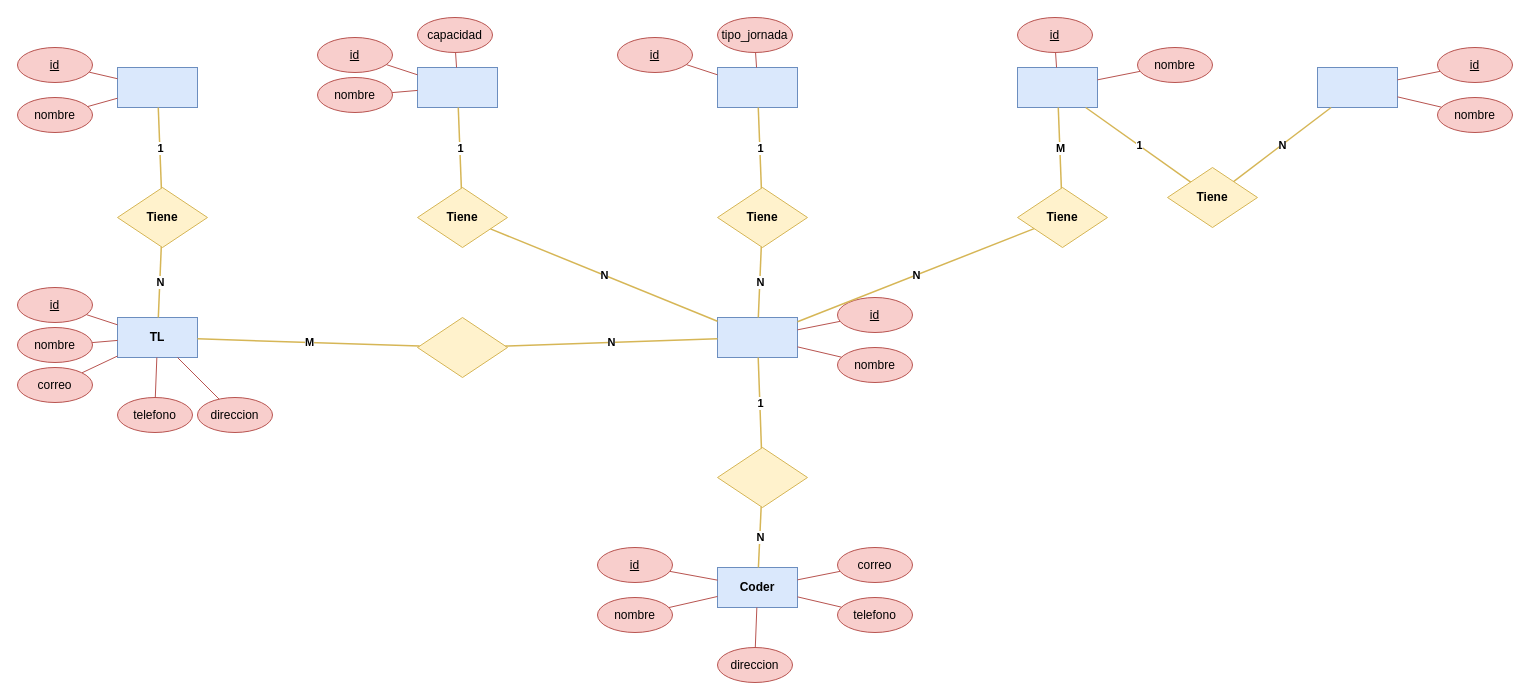
This 1530x700 diagram has some shape labels left out. The centre of each missing label's shape, as x and y in pixels:
"Clan" goes at point (757, 337).
"Enseña" goes at point (462, 347).
"Especialidad" goes at point (157, 87).
"Jornada" goes at point (757, 87).
"Modulo" goes at point (1357, 87).
"Pertenece" goes at point (762, 477).
"Ruta" goes at point (1057, 87).
"Sala" goes at point (457, 87).
